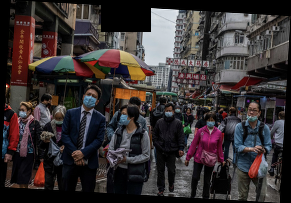mask_weared_incorrect: (246, 106, 260, 122)
with_mask: (83, 91, 98, 109), (119, 111, 131, 127), (18, 107, 29, 119), (164, 108, 174, 120), (53, 115, 64, 125), (206, 118, 217, 128), (46, 100, 52, 108), (175, 107, 181, 114), (219, 109, 224, 114)
without_mask: (186, 109, 191, 114)
